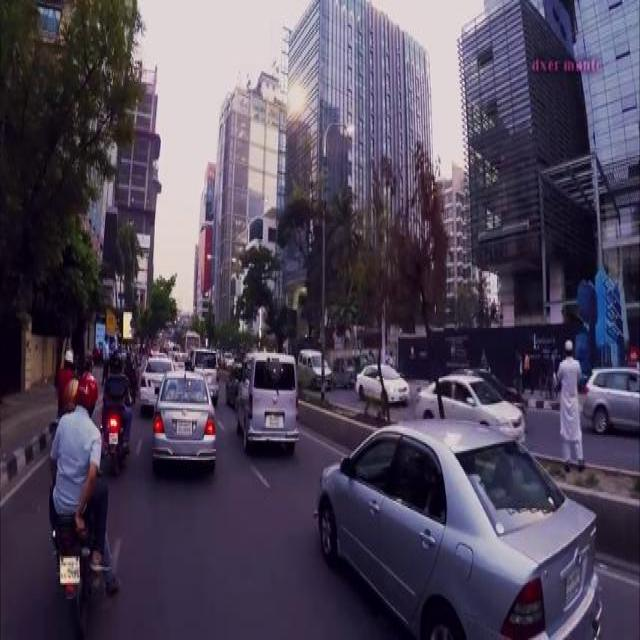10: (48, 415, 108, 626), (104, 406, 128, 473)
17: (332, 354, 354, 386)
5: (314, 414, 600, 638), (414, 374, 524, 444), (150, 368, 218, 468), (582, 364, 638, 428), (354, 362, 410, 403), (138, 355, 174, 403)
9: (236, 351, 298, 446), (187, 348, 219, 395), (298, 347, 332, 386), (224, 362, 242, 406)
Truck: (180, 328, 200, 348)
